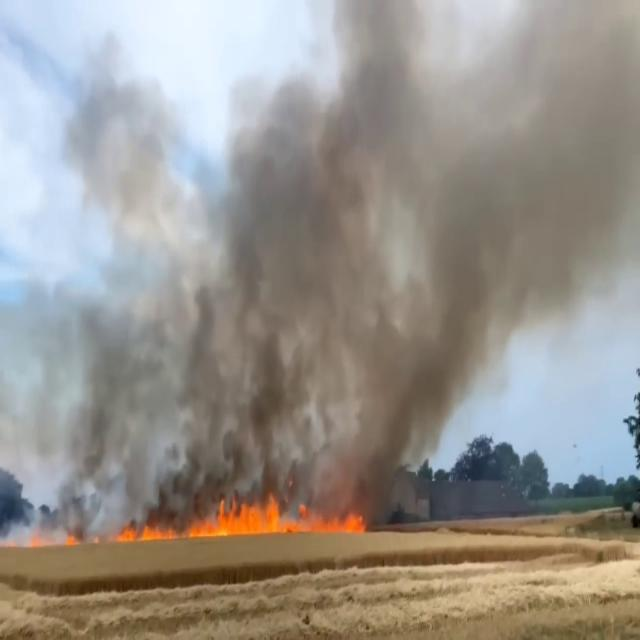Fire: (194, 486, 370, 539)
Smoke: (26, 1, 640, 502)
